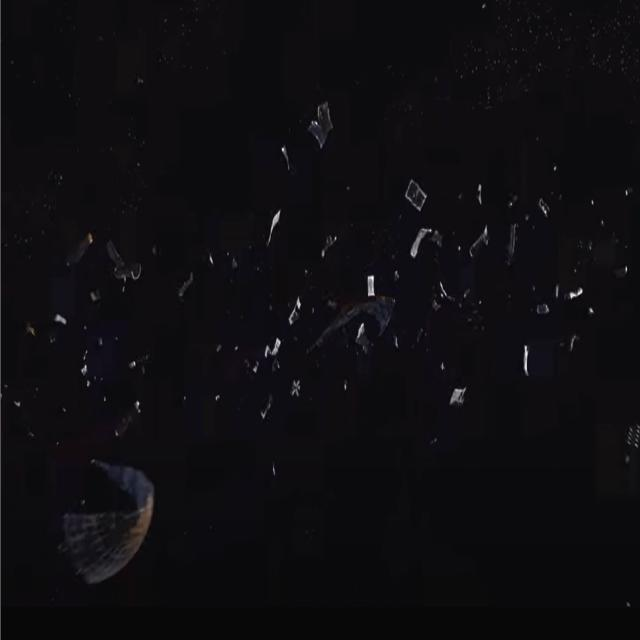large_debris: (46, 444, 168, 604), (303, 290, 396, 360), (103, 234, 145, 286), (306, 94, 338, 158), (61, 226, 98, 277), (404, 172, 431, 217), (500, 218, 522, 272), (408, 222, 437, 262), (516, 338, 533, 384), (564, 278, 586, 306), (532, 297, 552, 324), (535, 192, 552, 222), (366, 266, 381, 298)
